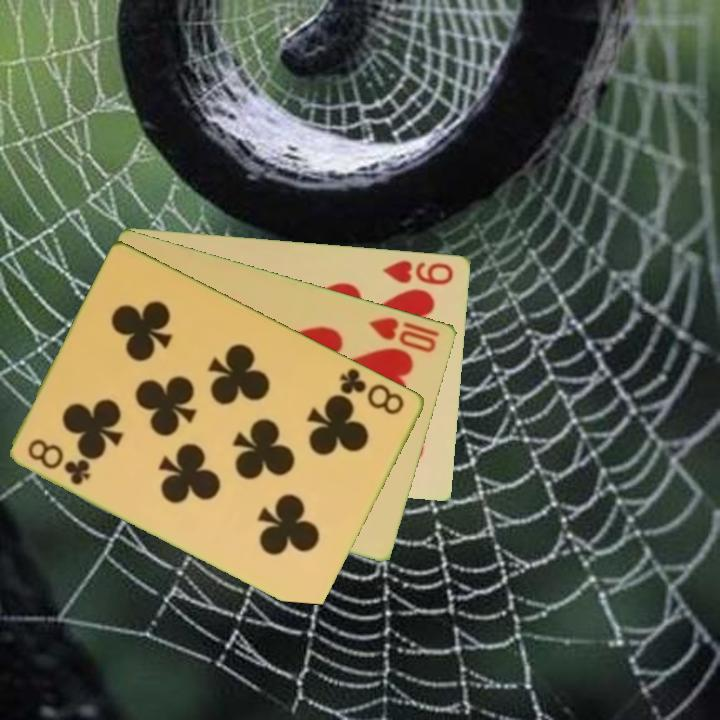10h: (365, 313, 443, 355)
8c: (336, 364, 408, 418), (25, 435, 94, 488)
9h: (380, 256, 457, 288)
